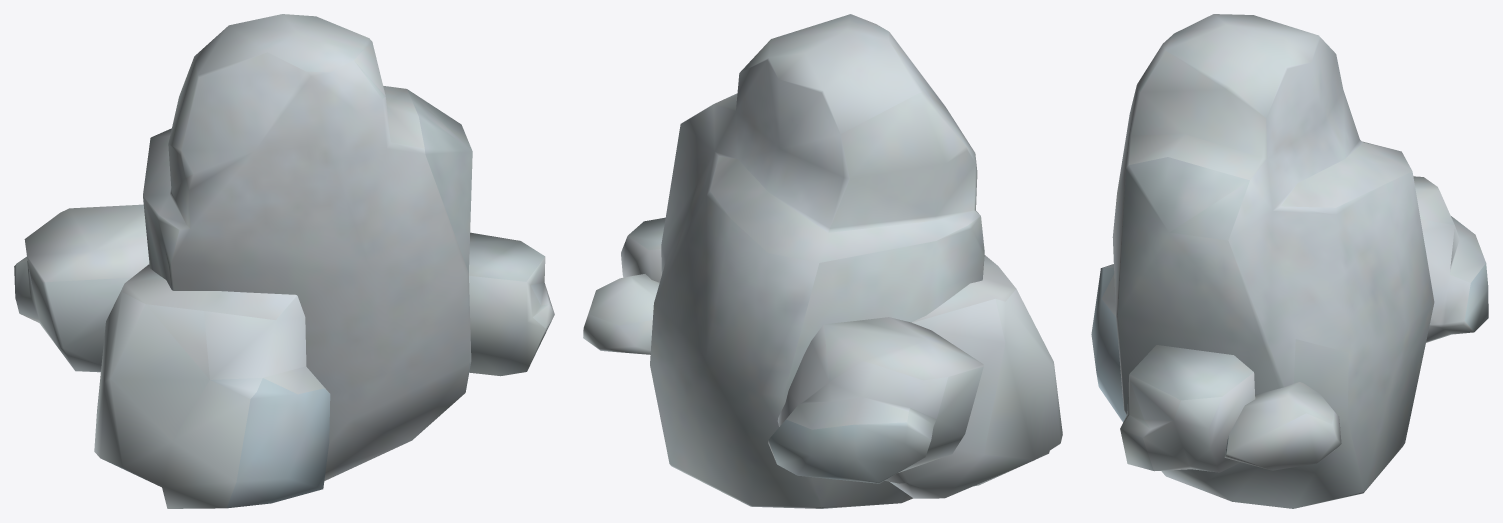
Rendered from P_RockSpire_RockClumpB02.obj.
3 views of the same model, side by side, from view 1: azimuth 30°, elevation 25°; view 2: azimuth 150°, elevation 25°; view 3: azimuth 270°, elevation 25° (orthographic).
Size of the model in its own units: 8.93 by 8.68 by 6.92.
